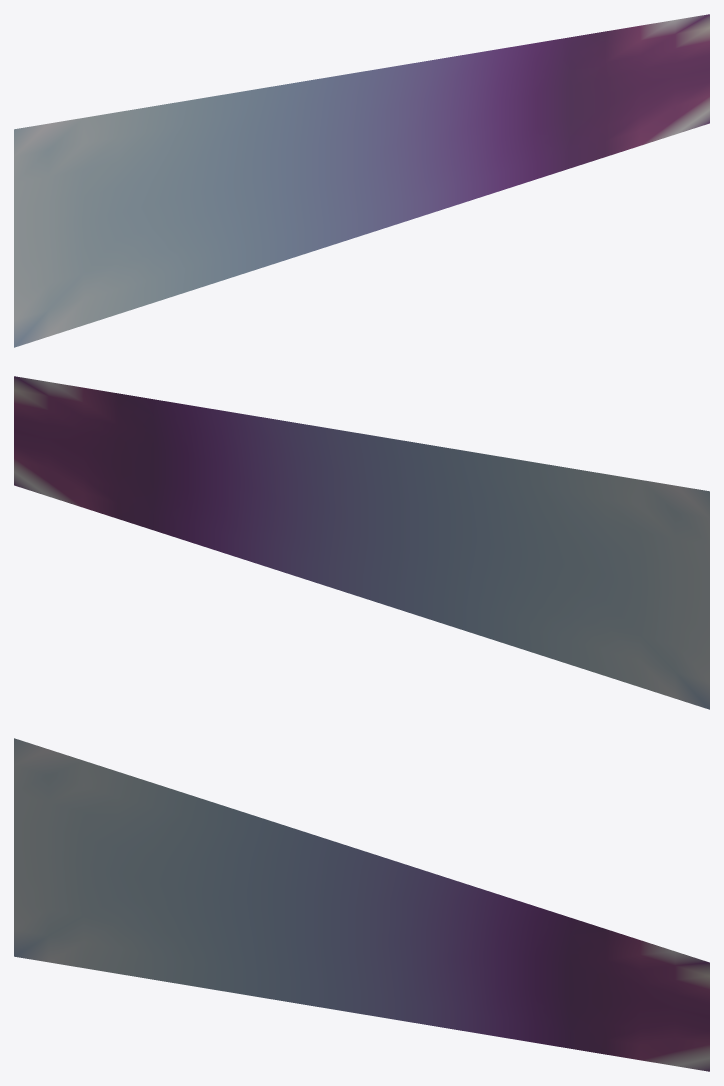
The model's file is stress.glb.
3 views of the same model, one above another, from view 1: azimuth 30°, elevation 25°; view 2: azimuth 150°, elevation 25°; view 3: azimuth 330°, elevation 25° (orthographic).
Size of the model in its own units: 100 by 30 by 6.66e-15.
